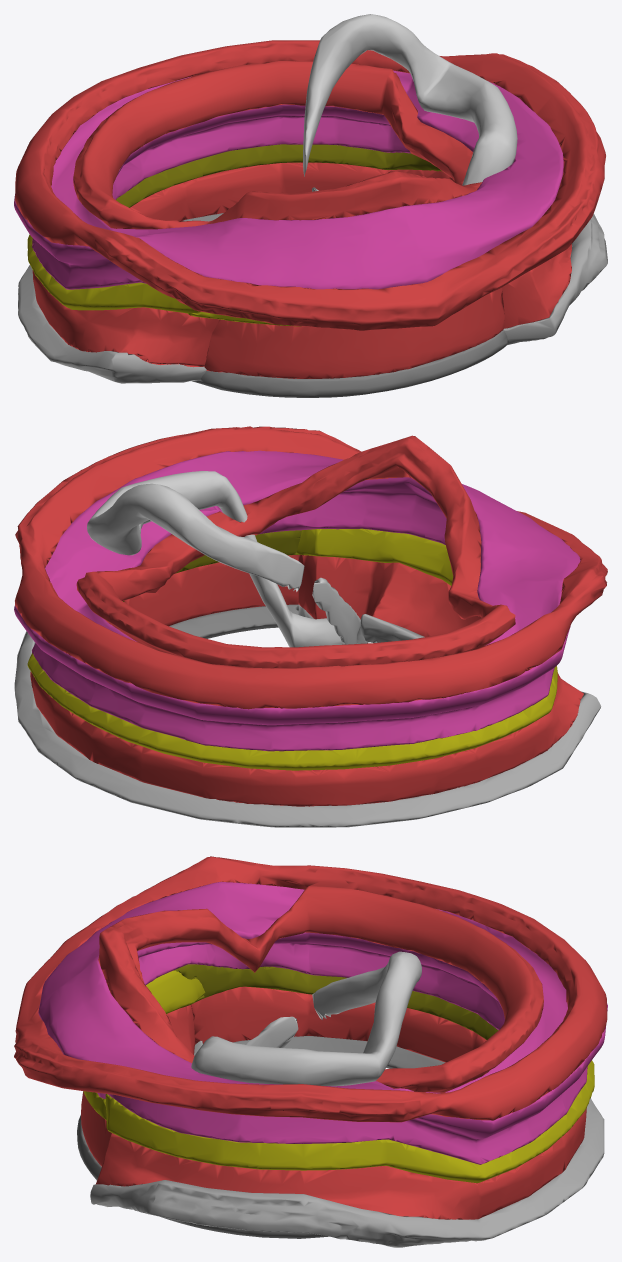
The model's file is football.glb.
The picture shows the model from 3 angles, top to bottom: view 1: azimuth 30°, elevation 25°; view 2: azimuth 150°, elevation 25°; view 3: azimuth 270°, elevation 25°; orthographic projection. The views are drawn at different scales.
Visible parts, largest first — view 1: Vert.007, Vert.015, Vert.010, Vert.011, Vert.016, Vert.002, Vert.001, Vert.004, Vert.003, Vert.006, Vert.005; view 2: Vert.007, Vert.015, Vert.002, Vert.010, Vert.001, Vert.016, Vert.005, Vert.004, Vert.003, Vert.006; view 3: Vert.007, Vert.015, Vert.010, Vert.002, Vert.001, Vert.005, Vert.016, Vert.004, Vert.006, Vert.003, Vert.011.
Part boxes in pixels (x1,y1,x2,y2): Vert.007: [14, 70, 563, 289]; Vert.015: [15, 40, 605, 330]; Vert.010: [73, 61, 482, 229]; Vert.011: [204, 287, 504, 378]; Vert.016: [303, 14, 517, 191]; Vert.002: [32, 162, 571, 367]; Vert.001: [18, 213, 607, 383]; Vert.004: [130, 162, 454, 221]; Vert.003: [182, 213, 508, 397]; Vert.006: [116, 144, 442, 207]; Vert.005: [27, 234, 200, 313]; Vert.007: [14, 450, 580, 751]; Vert.015: [15, 426, 607, 709]; Vert.002: [30, 554, 583, 806]; Vert.010: [76, 435, 515, 668]; Vert.001: [14, 604, 601, 827]; Vert.016: [87, 471, 360, 647]; Vert.005: [27, 528, 557, 770]; Vert.004: [124, 555, 298, 626]; Vert.003: [169, 604, 298, 638]; Vert.006: [123, 530, 303, 601]; Vert.007: [38, 881, 607, 1164]; Vert.015: [14, 856, 607, 1122]; Vert.010: [98, 886, 543, 1092]; Vert.002: [95, 1005, 586, 1219]; Vert.001: [90, 1040, 604, 1247]; Vert.005: [105, 970, 594, 1182]; Vert.016: [191, 951, 421, 1086]; Vert.004: [190, 986, 486, 1062]; Vert.006: [174, 964, 498, 1039]; Vert.003: [77, 1036, 445, 1238]; Vert.011: [81, 1091, 111, 1166].
Size of the model in its own units: 7.49 by 3.2 by 7.2.
